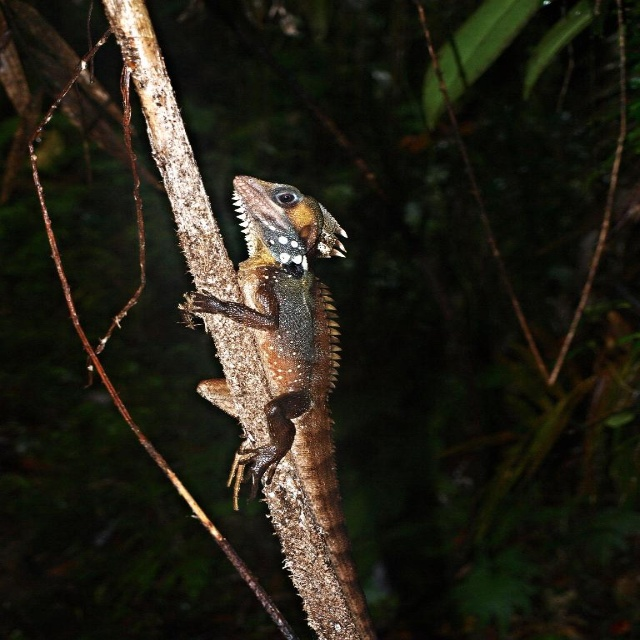Lizard: (145, 207, 367, 500)
